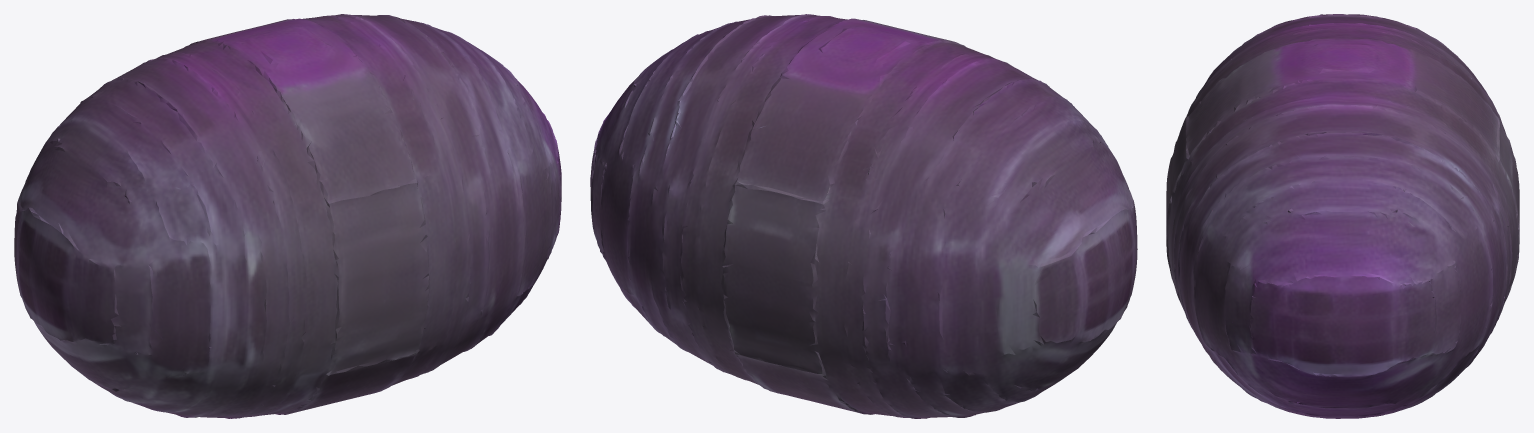
The model's file is kraken_engine_main.glb.
The picture shows the model from 3 angles, left to right: view 1: azimuth 30°, elevation 25°; view 2: azimuth 150°, elevation 25°; view 3: azimuth 270°, elevation 25°; orthographic projection. The views are drawn at different scales.
Visible parts, largest first — view 1: kraken_engine_main; view 2: kraken_engine_main; view 3: kraken_engine_main.
Boxes of the visible parts, x1,y1,x2,y2 form: kraken_engine_main: (14,14,561,418); kraken_engine_main: (590,14,1137,418); kraken_engine_main: (1166,14,1519,418).
Bounding box in the file's own units: 1.89 × 1.25 × 1.25.
Materials: 1 (1 with a texture image).
